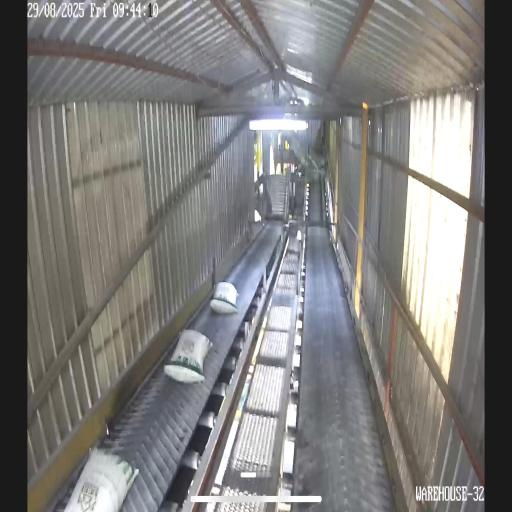c-belt-sack-count: (64, 449, 138, 511), (164, 330, 212, 382), (210, 282, 237, 312)
